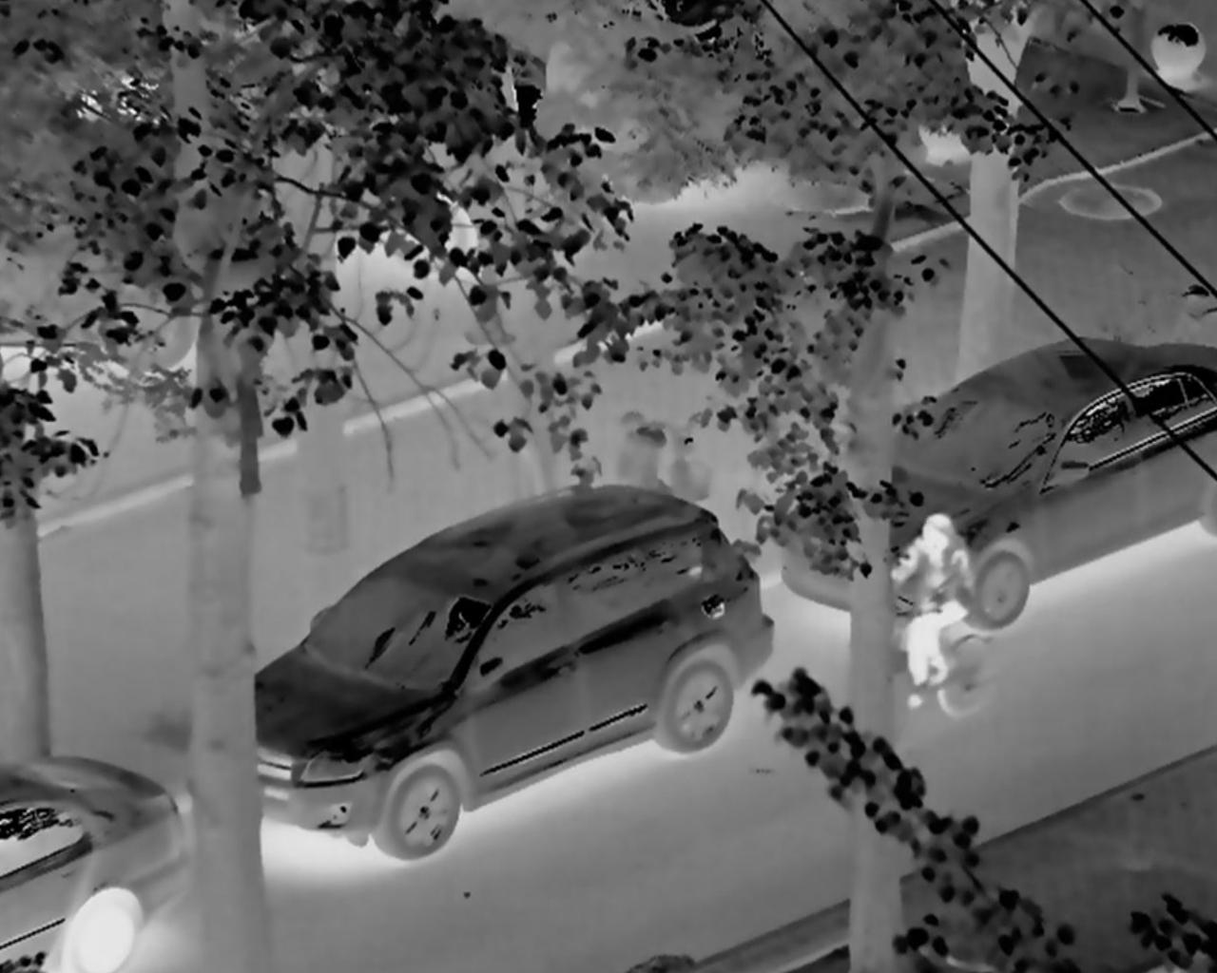person: (872, 505, 997, 743)
